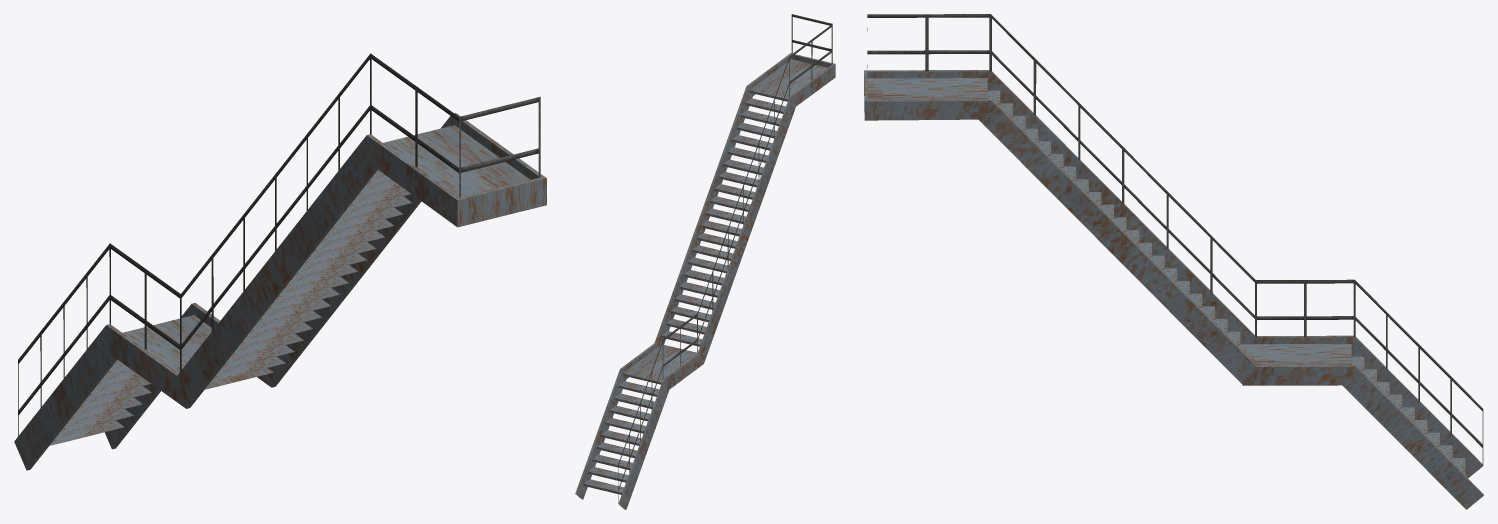
File: cos_sbanksteps06.obj
The picture shows the model from 3 angles, left to right: view 1: azimuth 30°, elevation 25°; view 2: azimuth 150°, elevation 25°; view 3: azimuth 270°, elevation 25°; orthographic projection. The views are drawn at different scales.
Parts seen in each view (by area): view 1: cos_sbanksteps06; view 2: cos_sbanksteps06; view 3: cos_sbanksteps06.
Part boxes in pixels (x1,y1,x2,y2): cos_sbanksteps06: (14, 53, 546, 470); cos_sbanksteps06: (575, 14, 835, 509); cos_sbanksteps06: (864, 14, 1483, 509).
Bounding box in the file's own units: 1.12 × 7.36 × 8.83.
2 materials, 2 textured.
